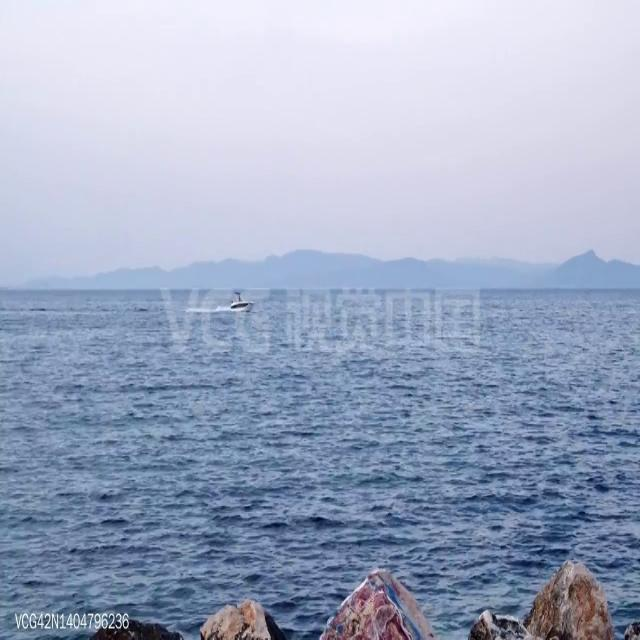houseboat: (228, 286, 255, 311)
